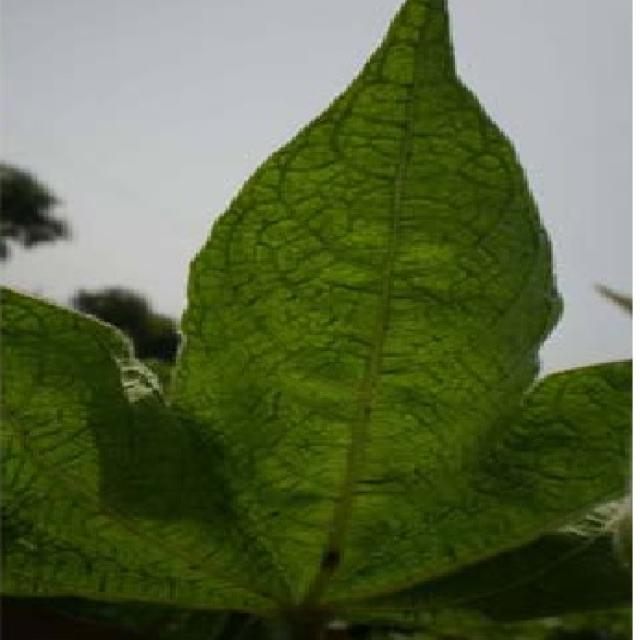Leaf Curl Virus: (233, 185, 569, 542)
